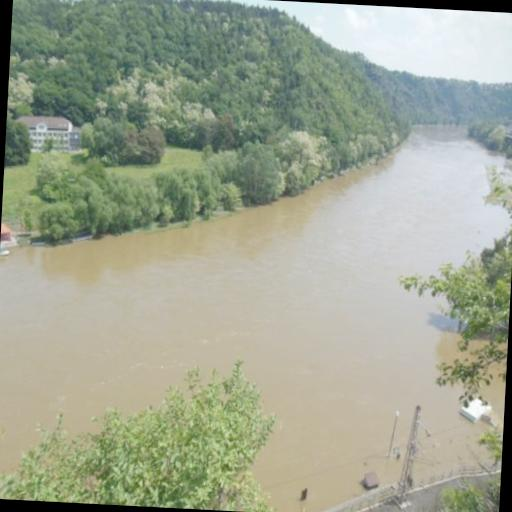flood: (0, 126, 512, 512), (487, 384, 506, 419)
house: (26, 112, 84, 154), (0, 219, 17, 257)
